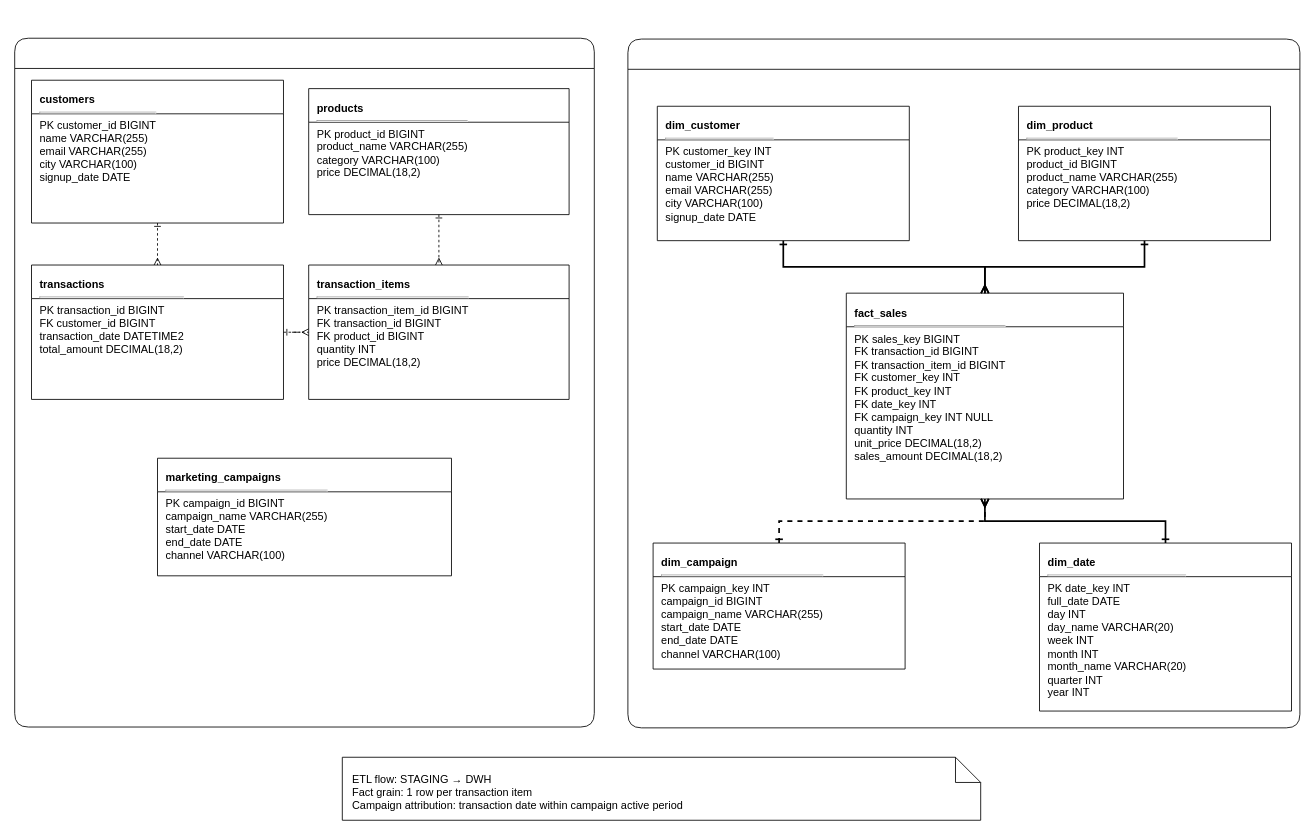
The diagram is 1315 pixels wide and 835 high, and some of its shapes have lost their labels. Here are the shapes that lost their labels. From the top down, the box of each, then its label:
(14, 37, 594, 727): STAGING
(627, 38, 1300, 728): DWH — STAR SCHEMA
